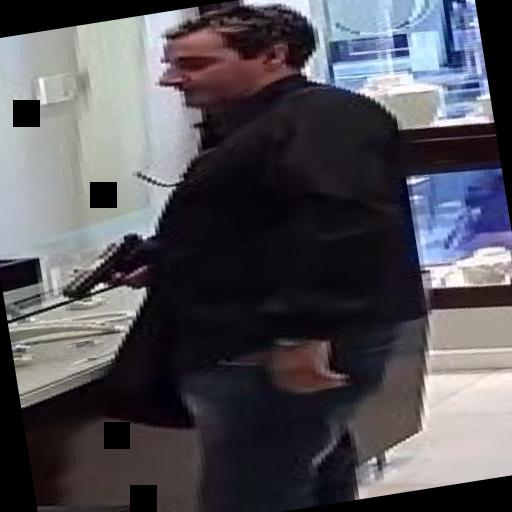Handgun: (50, 226, 164, 302)
